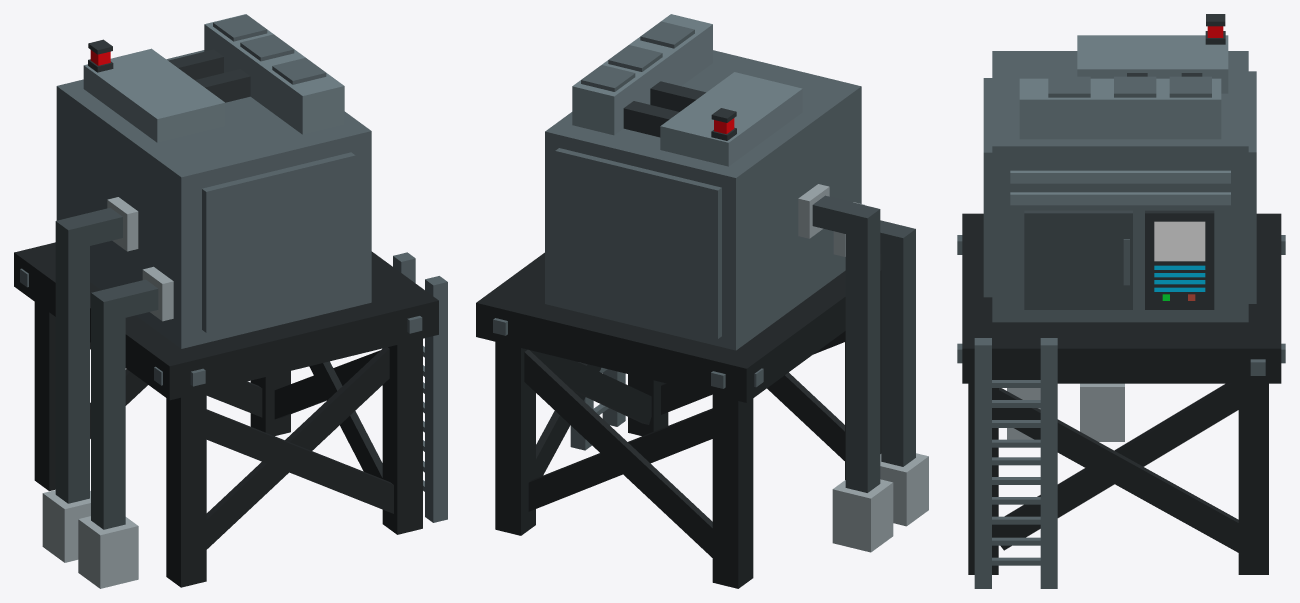
Rendered from Machine 02.FBX.
3 renders of one model, left to right at view 1: azimuth 30°, elevation 25°; view 2: azimuth 150°, elevation 25°; view 3: azimuth 270°, elevation 25°, orthographic. The views are drawn at different scales.
Visible parts, largest first — view 1: Machine 02; view 2: Machine 02; view 3: Machine 02.
Boxes of the visible parts, box(x1,y1,x2,y2) form: Machine 02: box(14, 14, 447, 588); Machine 02: box(476, 14, 928, 588); Machine 02: box(957, 14, 1285, 588).
Size of the model in its own units: 447 by 572 by 374.
